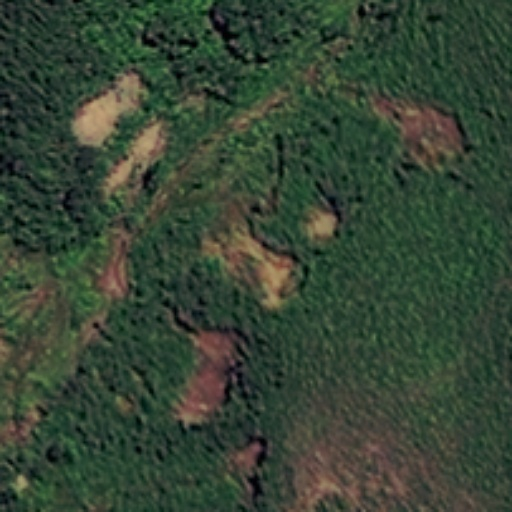landslide: (176, 197, 339, 425), (71, 71, 159, 297), (302, 439, 431, 506), (371, 90, 472, 172)
